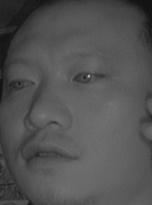eye: (70, 66, 104, 88), (7, 73, 38, 93)
mouth: (20, 136, 83, 173)
